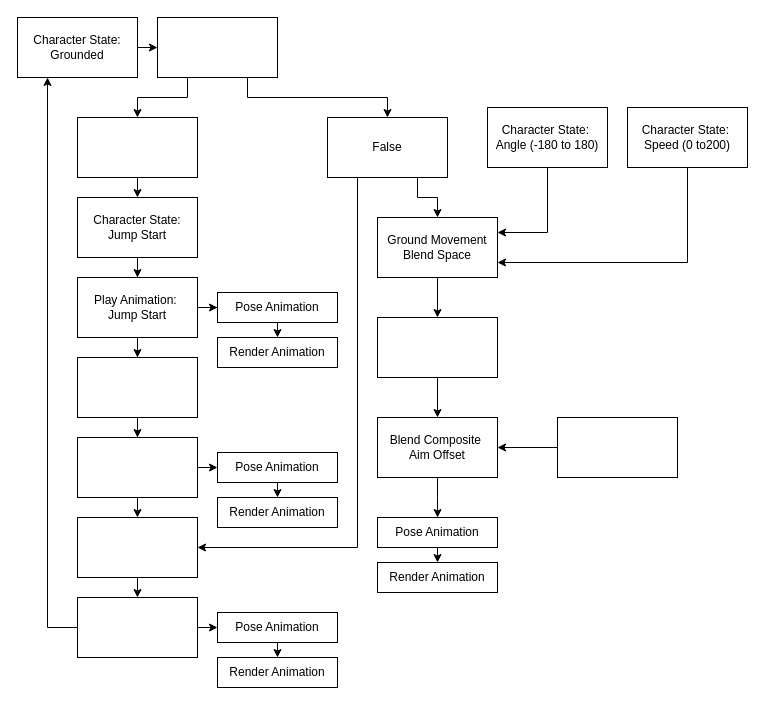
This 765x705 diagram has some shape labels left out. Here are the shapes that lost their labels. From the top down, the box of each, then its label:
(156, 16, 278, 78): IsAirborne? (set by character controller logic)
(76, 116, 198, 178): True
(376, 316, 498, 378): Blend Composite for Motion
(76, 356, 198, 418): Auto Transition >> Character State: Airborne
(76, 436, 198, 498): Play Animation: Airborn
(556, 416, 678, 478): Character State: Aim Yaw (-90 to 90)
(76, 516, 198, 578): Character State: Jump Stop
(76, 596, 198, 658): Play Animation: Jump Stop
